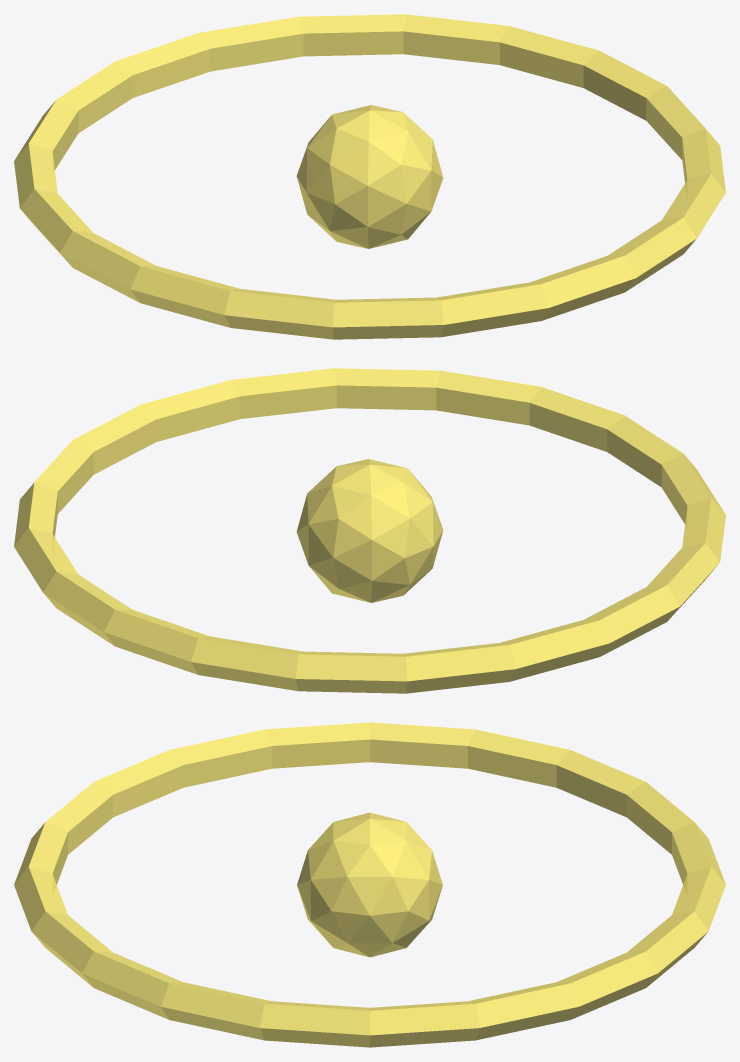
Rendered from colorblind_shape_square.glb.
3 views of the same model, one above another, from view 1: azimuth 30°, elevation 25°; view 2: azimuth 150°, elevation 25°; view 3: azimuth 270°, elevation 25° (orthographic).
Visible parts, largest first — view 1: outline_ring, marker_core; view 2: outline_ring, marker_core; view 3: outline_ring, marker_core.
Part boxes in pixels (x1,y1,x2,y2): outline_ring: (14,14,725,339); marker_core: (296,105,443,248); outline_ring: (14,368,725,693); marker_core: (296,459,443,602); outline_ring: (14,722,725,1047); marker_core: (297,812,442,957).
Bounding box in the file's own units: 1.17 × 0.24 × 1.17.
